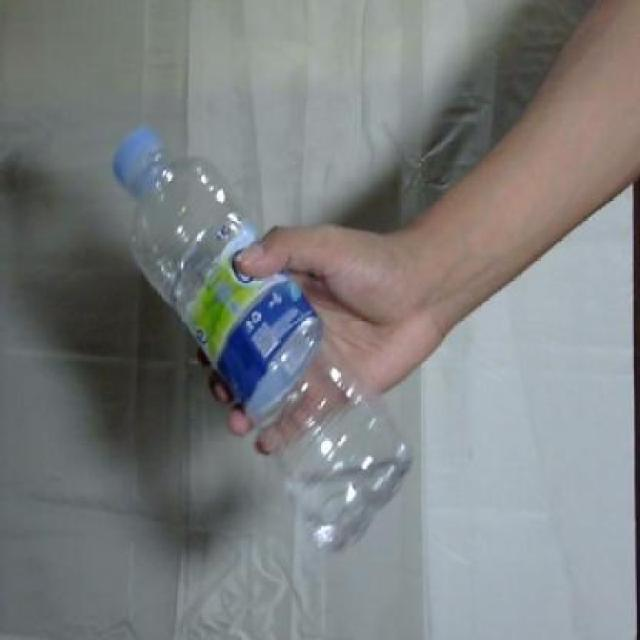Plastic: (113, 123, 411, 556)
